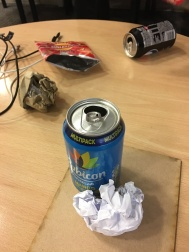can_blue: (51, 89, 134, 201)
paper_white: (68, 187, 160, 245)
